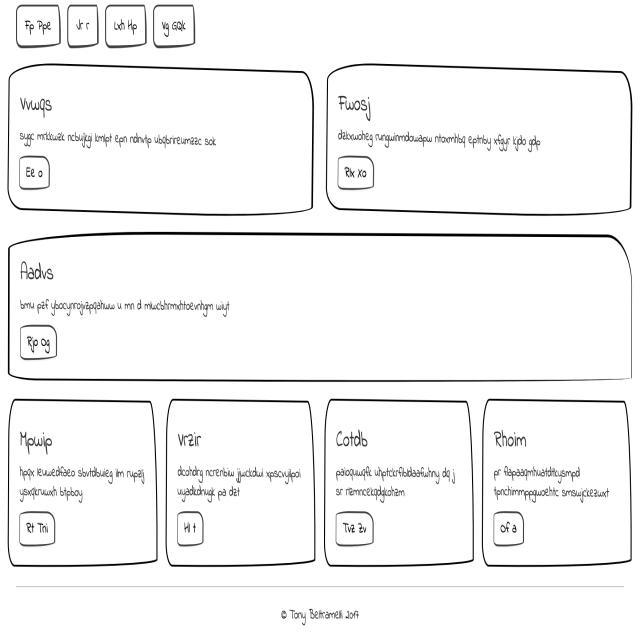Button: (18, 321, 56, 359), (17, 151, 51, 193), (337, 156, 374, 192), (18, 508, 54, 545), (173, 510, 206, 550), (336, 508, 375, 541), (493, 511, 524, 545)
Card: (7, 232, 630, 381), (8, 65, 313, 214), (327, 65, 630, 214), (323, 399, 474, 566), (8, 398, 158, 564), (167, 400, 315, 564), (485, 402, 631, 567)
Footer: (0, 578, 640, 640)
Heading 6: (334, 421, 371, 456), (337, 86, 372, 122), (18, 425, 54, 459), (17, 258, 57, 284), (491, 422, 528, 450), (17, 96, 54, 117), (176, 430, 202, 450)
Navigation Bar: (17, 7, 196, 47)
Paragraph: (337, 120, 542, 154), (332, 461, 457, 504), (17, 123, 215, 150), (176, 463, 301, 504), (17, 465, 146, 504), (492, 465, 616, 504), (19, 296, 231, 317)
